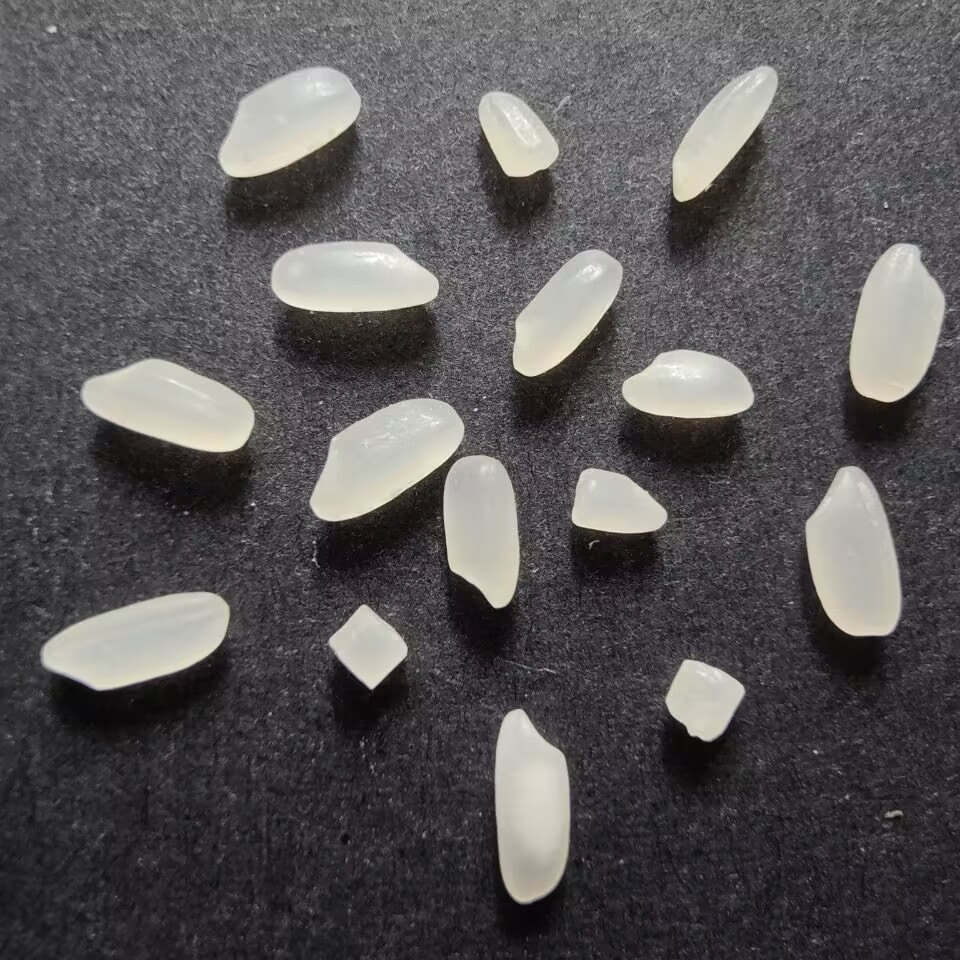broken: (475, 86, 564, 182), (326, 596, 410, 697), (659, 656, 751, 747), (566, 462, 669, 536)
rice: (36, 588, 235, 695), (305, 394, 466, 524), (75, 352, 259, 456), (801, 463, 907, 642), (215, 62, 364, 183), (664, 59, 782, 209), (843, 236, 948, 403), (487, 703, 571, 907), (508, 246, 626, 378), (267, 234, 440, 315), (438, 452, 522, 611), (615, 347, 760, 421)
